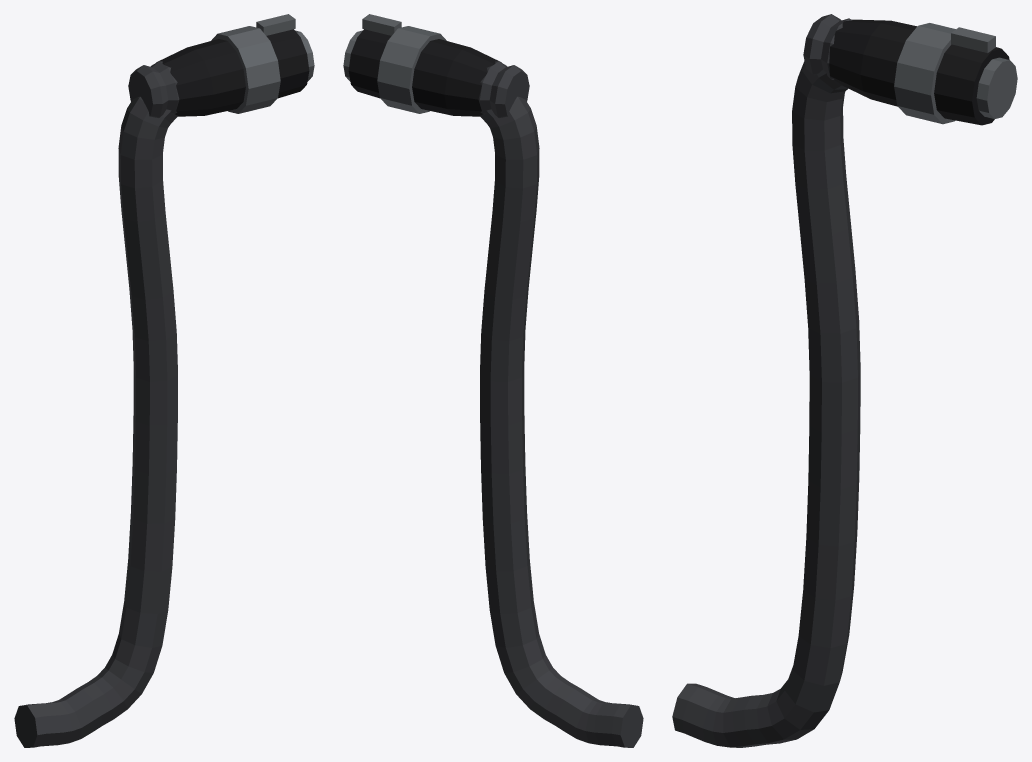
The model's file is MinidoracatTesla_CablePlugRoadster.fbx.
3 views of the same model, side by side, from view 1: azimuth 30°, elevation 25°; view 2: azimuth 150°, elevation 25°; view 3: azimuth 330°, elevation 25° (orthographic). The views are drawn at different scales.
Visible parts, largest first — view 1: MinidoracatTesla_CablePlugRoadster; view 2: MinidoracatTesla_CablePlugRoadster; view 3: MinidoracatTesla_CablePlugRoadster.
Part boxes in pixels (x1,y1,x2,y2): MinidoracatTesla_CablePlugRoadster: [14, 14, 314, 747]; MinidoracatTesla_CablePlugRoadster: [343, 14, 643, 747]; MinidoracatTesla_CablePlugRoadster: [672, 14, 1017, 747].
Bounding box in the file's own units: 0.3619 × 0.8375 × 0.094.
